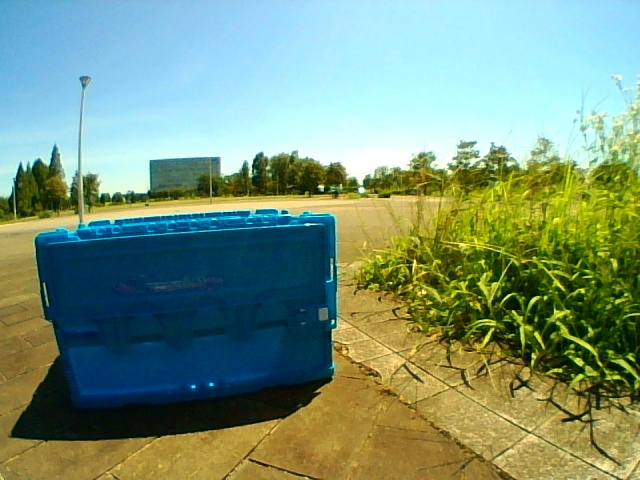blue_box: (69, 224, 332, 383)
